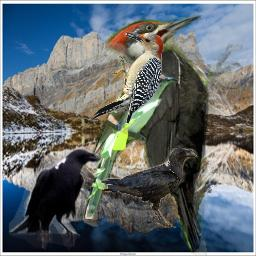Crow: (8, 146, 102, 253), (100, 148, 198, 228)
Cuckoo: (84, 72, 180, 219)
Woodpecker: (105, 14, 243, 256), (88, 28, 173, 123)
